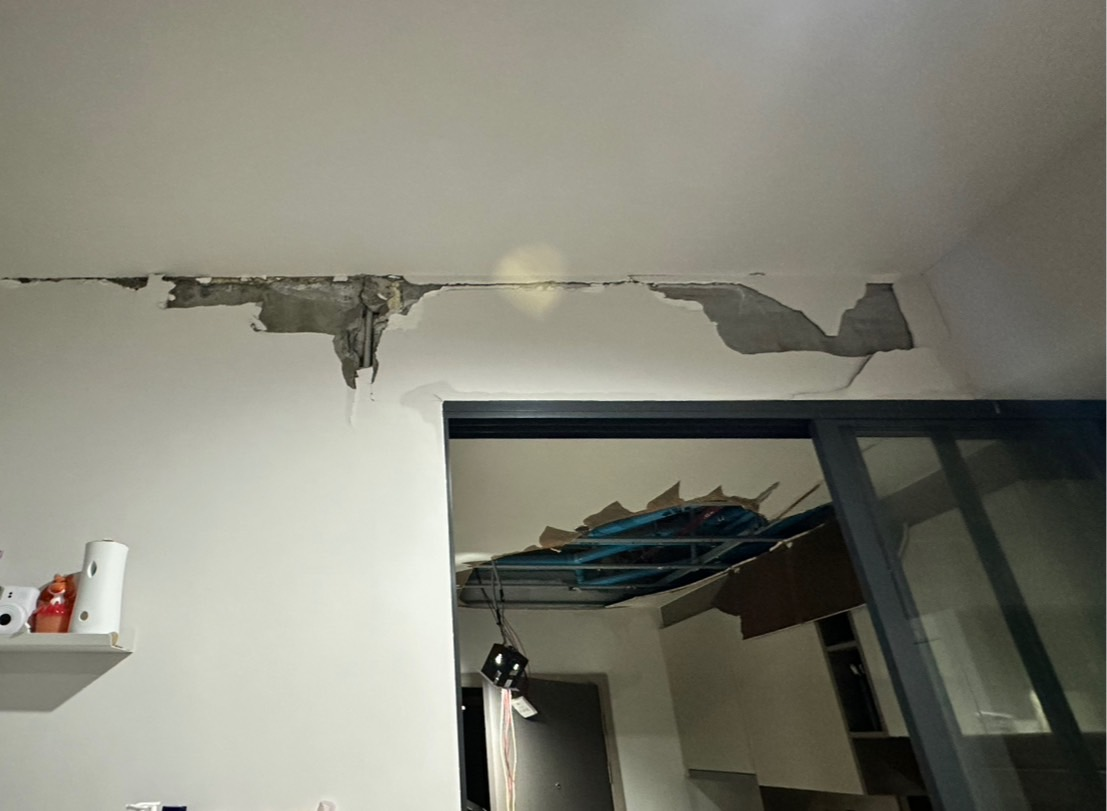High: (2, 239, 971, 404)
